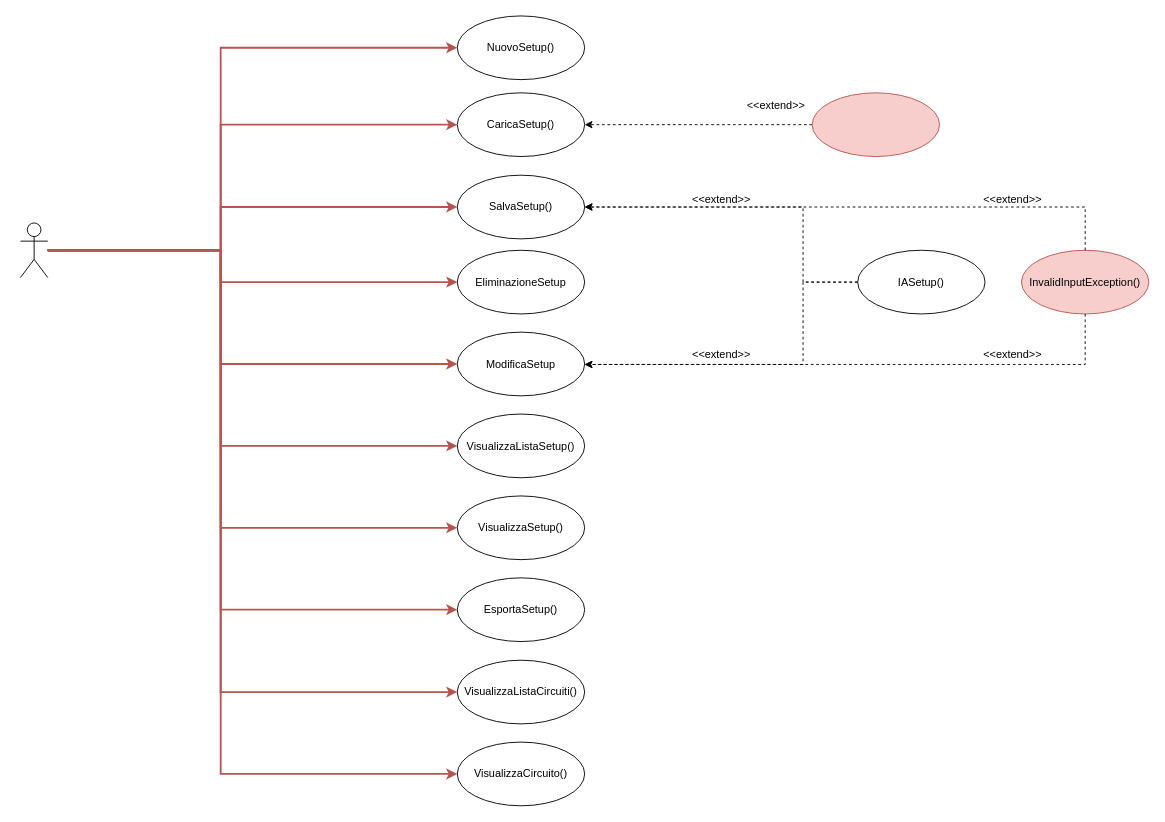
This 1165x822 diagram has some shape labels left out. Each missing label, with the box of its shape:
Tecnico: (20, 222, 48, 278)
UnsupportedExtension(): (811, 92, 940, 157)
